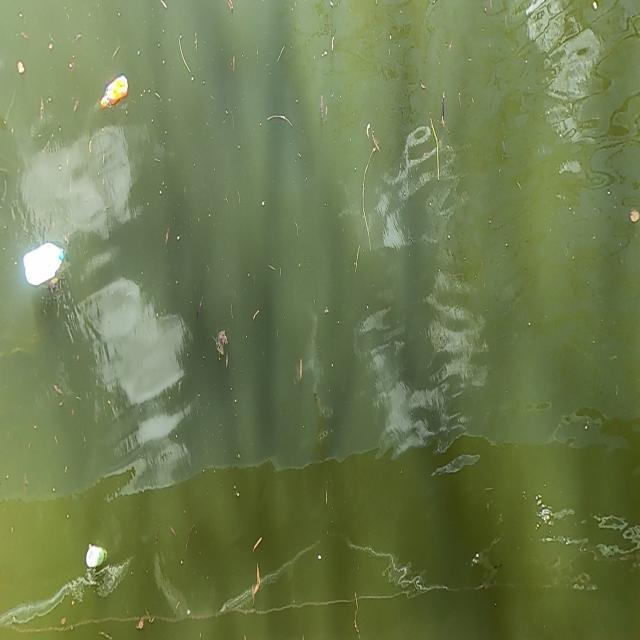Bouteille plastique: (21, 225, 67, 292), (100, 66, 138, 116)
